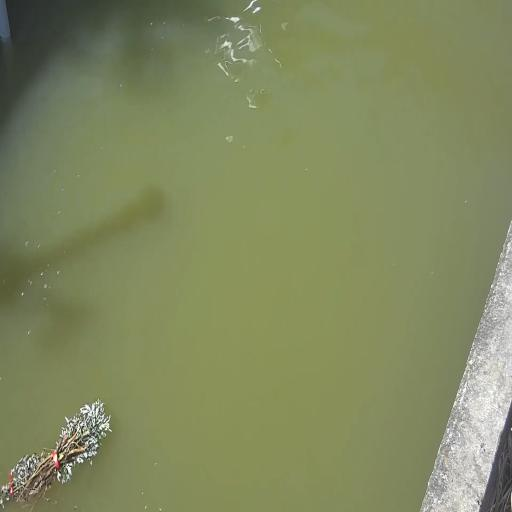twig: (0, 400, 111, 506)
